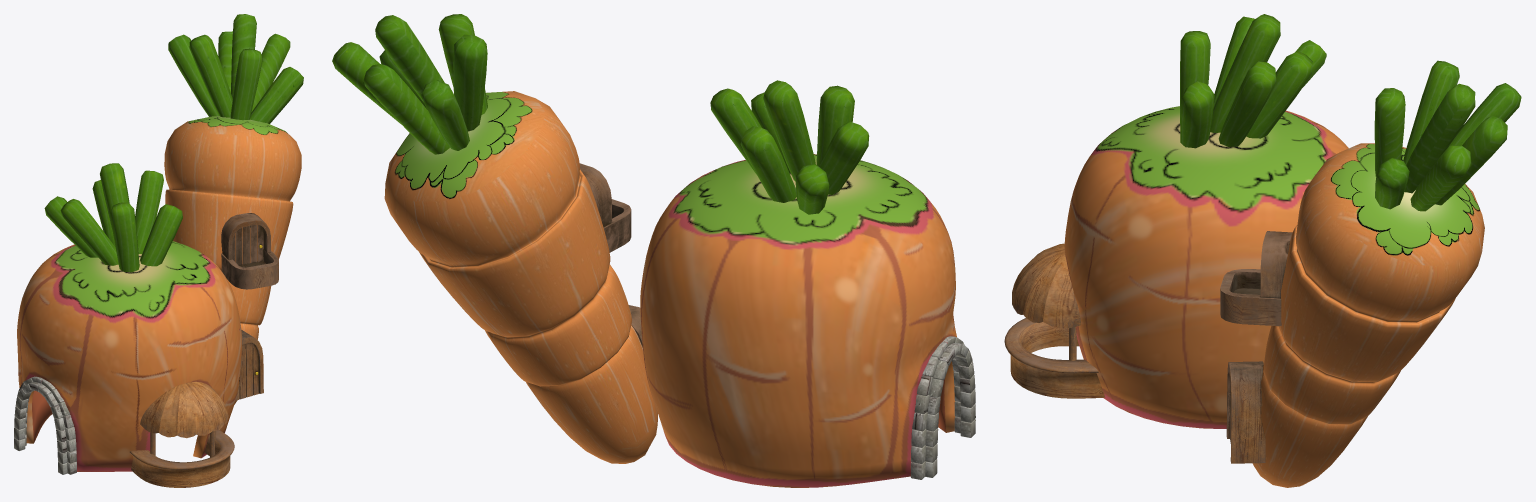
File: CarrotHouse.fbx
The picture shows the model from 3 angles, left to right: view 1: azimuth 30°, elevation 25°; view 2: azimuth 150°, elevation 25°; view 3: azimuth 270°, elevation 25°; orthographic projection. The views are drawn at different scales.
Parts seen in each view (by area): view 1: Circle.002; view 2: Circle.002; view 3: Circle.002.
Part boxes in pixels (x1=…): Circle.002: x1=14, y1=14, x2=303, y2=487; Circle.002: x1=332, y1=14, x2=975, y2=487; Circle.002: x1=1004, y1=14, x2=1521, y2=487.
Bounding box in the file's own units: 1129 × 1037 × 1046.
Materials: 3 (3 with a texture image).
